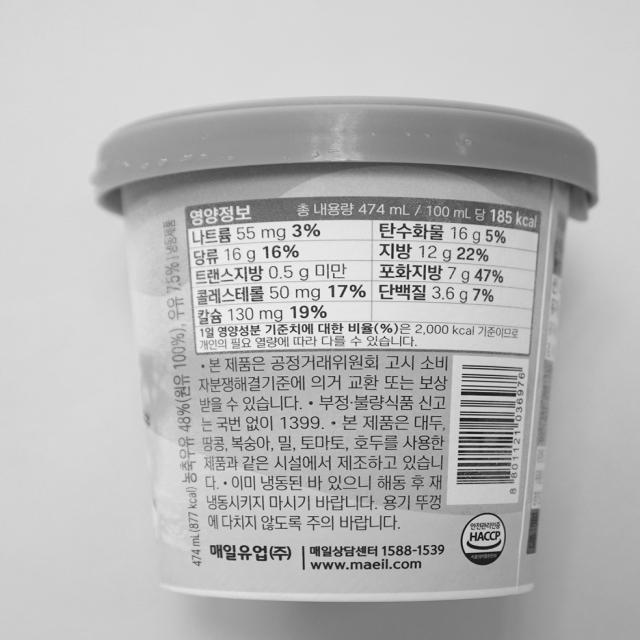Nutrition Label: (170, 195, 548, 361)
